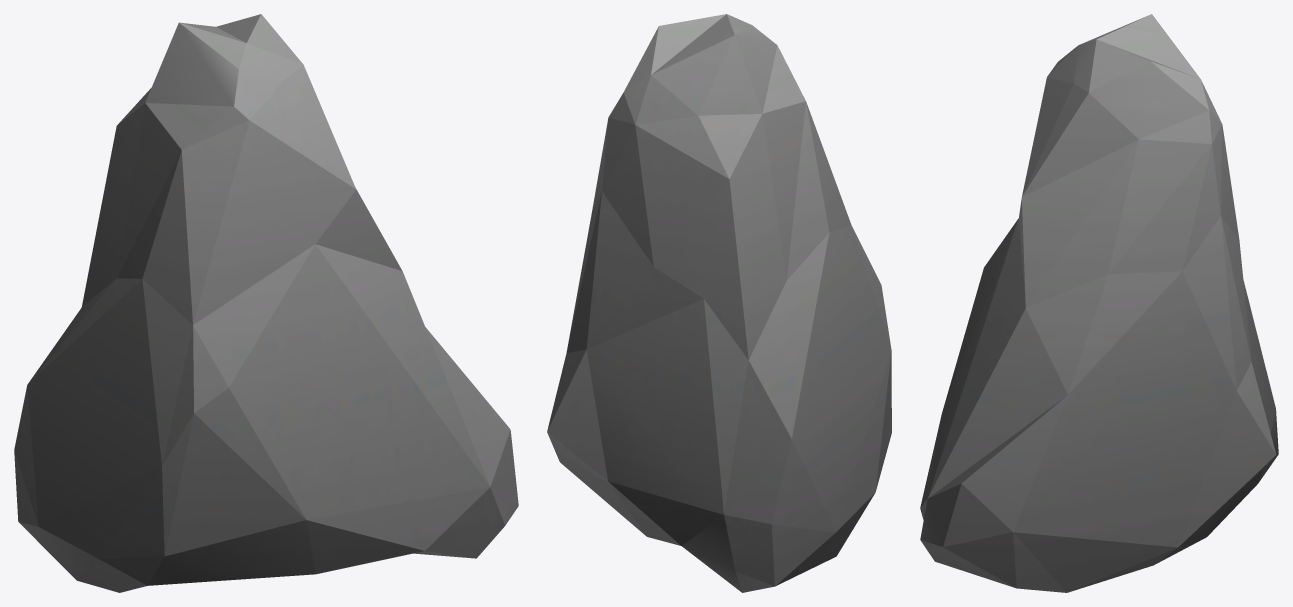
The picture shows the model from 3 angles, left to right: view 1: azimuth 30°, elevation 25°; view 2: azimuth 150°, elevation 25°; view 3: azimuth 270°, elevation 25°; orthographic projection. The views are drawn at different scales.
Parts seen in each view (by area): view 1: Rock; view 2: Rock; view 3: Rock.
Boxes of the visible parts, x1,y1,x2,y2 form: Rock: (14,14,518,592); Rock: (547,14,891,592); Rock: (920,14,1278,592).
Size of the model in its own units: 41.09 by 60 by 38.26.
Materials: 1 (1 with a texture image).
